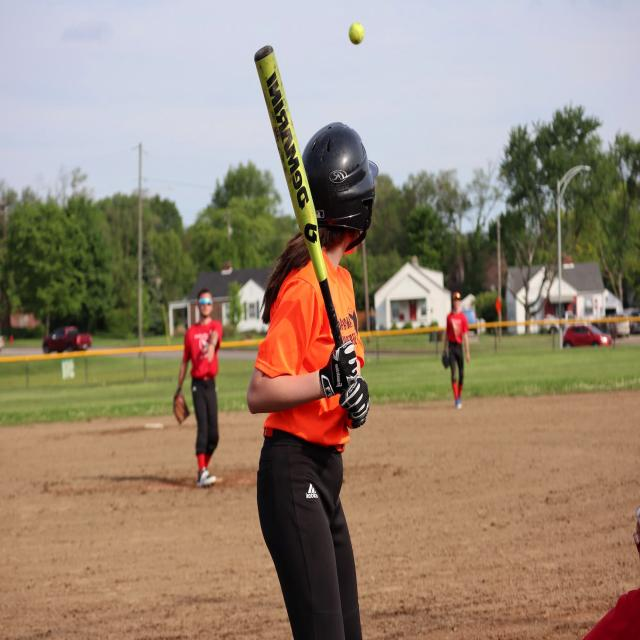adult: (247, 118, 372, 640), (177, 286, 222, 486), (444, 291, 470, 408)
